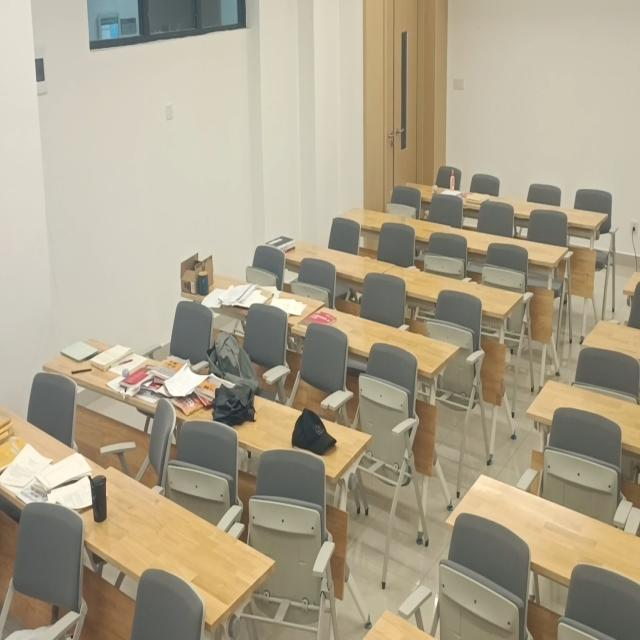Non-empty: (41, 469, 271, 628), (195, 374, 371, 476), (44, 335, 235, 415), (0, 400, 108, 517), (293, 302, 459, 378), (182, 260, 324, 336), (257, 235, 394, 286), (390, 182, 501, 209)
empty: (444, 471, 638, 607), (524, 380, 639, 452), (382, 269, 518, 321), (426, 226, 569, 265), (337, 204, 453, 243), (493, 199, 610, 230), (582, 318, 640, 359), (364, 607, 433, 640)
